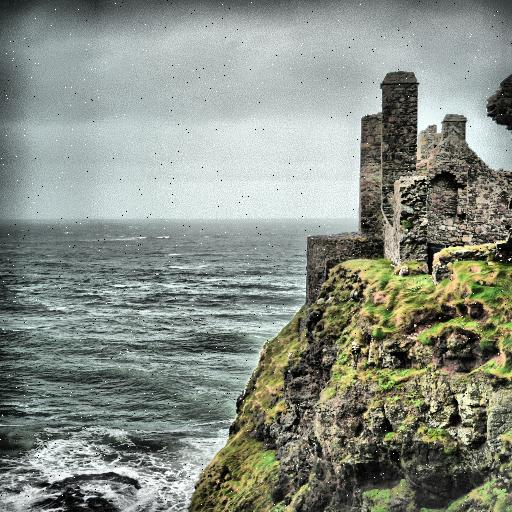person: (306, 71, 512, 308)
